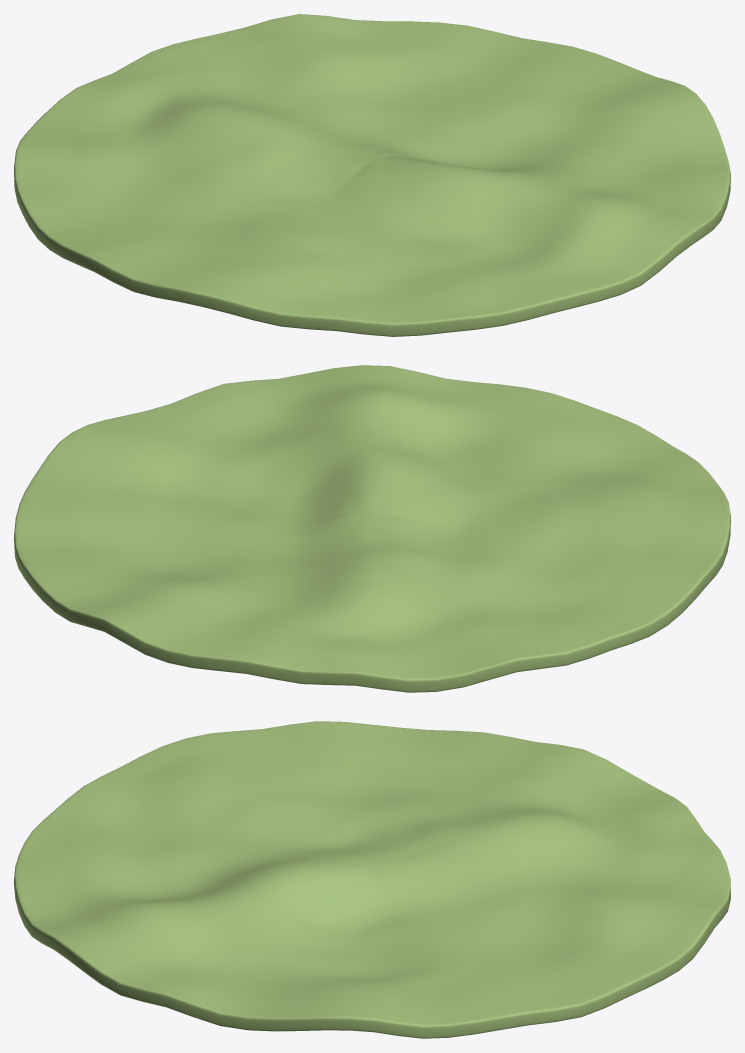
The model's file is Latise.fbx.
3 views of the same model, one above another, from view 1: azimuth 30°, elevation 25°; view 2: azimuth 150°, elevation 25°; view 3: azimuth 270°, elevation 25° (orthographic).
Parts seen in each view (by area): view 1: pCylinder24; view 2: pCylinder24; view 3: pCylinder24.
Part boxes in pixels (bbox=[...]): pCylinder24: bbox=[14, 14, 730, 336]; pCylinder24: bbox=[14, 365, 730, 692]; pCylinder24: bbox=[14, 721, 730, 1038].
Size of the model in its own units: 4.14 by 0.2887 by 4.13.
